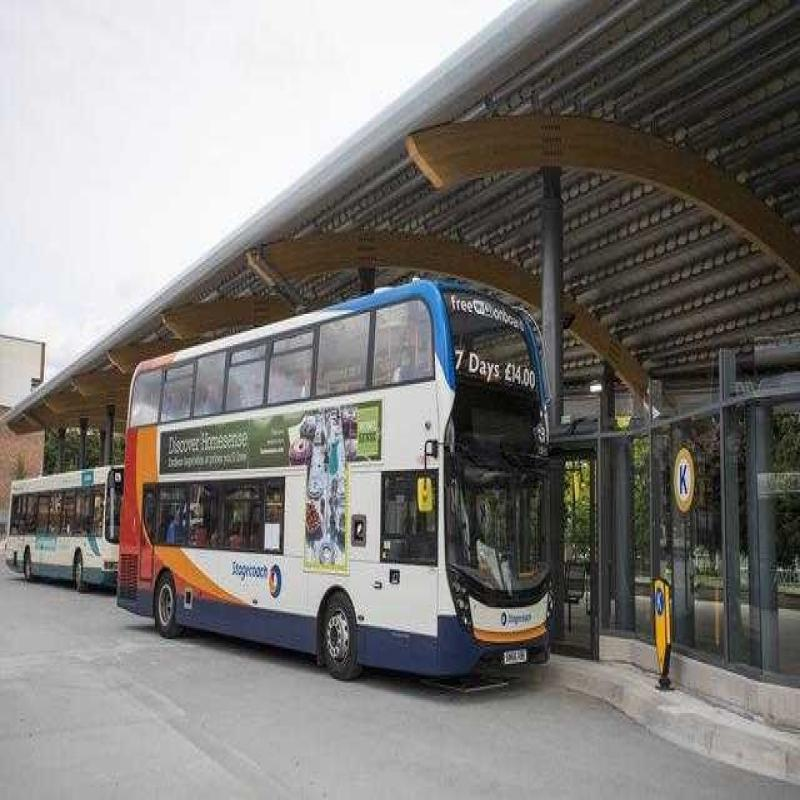bus: (140, 258, 597, 692)
